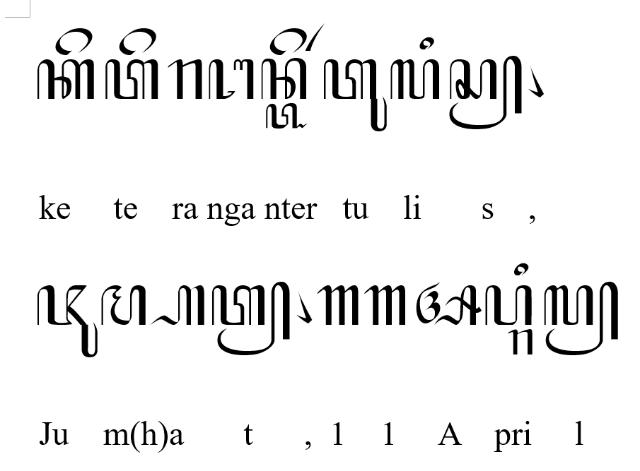-l: (543, 281, 619, 357)
-s: (448, 56, 524, 130)
-t: (210, 282, 290, 356)
A: (416, 281, 482, 327)
_h: (150, 284, 206, 326)
_r1: (304, 22, 326, 52)
_t: (264, 102, 308, 130)
e: (55, 26, 93, 56), (119, 26, 157, 56), (269, 27, 307, 56)
g: (364, 284, 406, 326), (317, 284, 358, 326)
i: (513, 263, 529, 277), (420, 36, 434, 50)
ju: (36, 284, 98, 358)
k: (37, 58, 95, 99)
kom: (528, 65, 544, 99), (296, 290, 312, 324)
l: (390, 58, 440, 99)
m: (101, 285, 147, 327)
n: (261, 58, 307, 100)
nga: (208, 58, 255, 99)
p: (483, 284, 532, 326)
r: (168, 59, 204, 99), (508, 328, 532, 356)
t: (105, 58, 159, 100)
tu: (323, 59, 387, 132)
